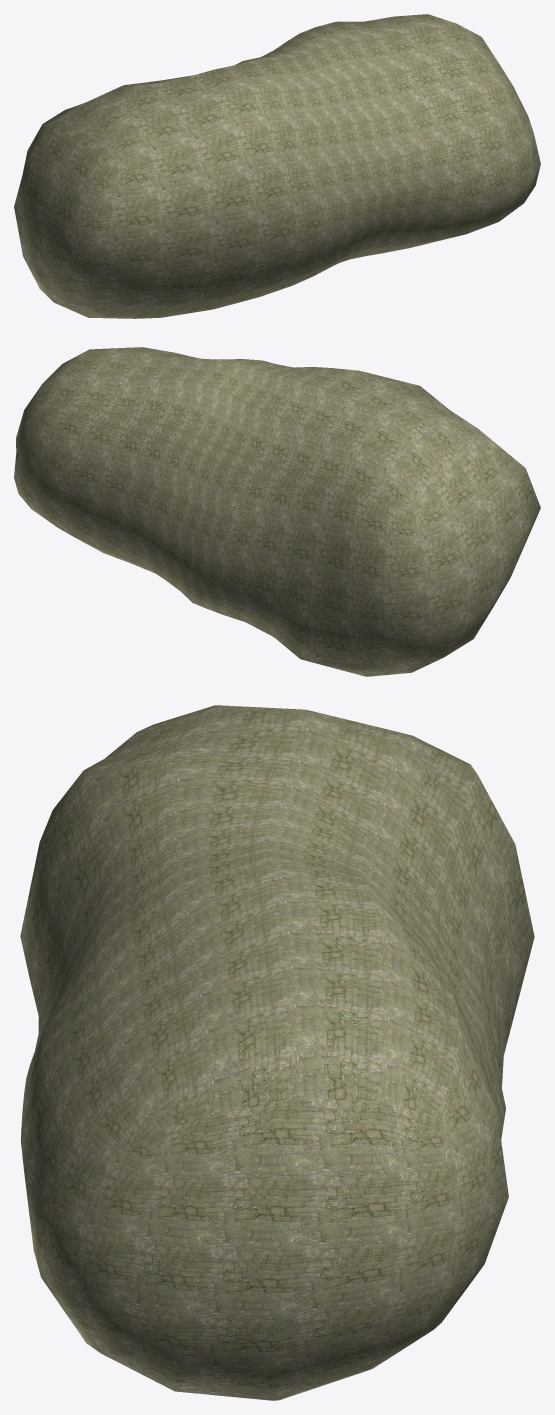
The model's file is SM_Chateaux_06_03.fbx.
3 views of the same model, one above another, from view 1: azimuth 30°, elevation 25°; view 2: azimuth 150°, elevation 25°; view 3: azimuth 270°, elevation 25° (orthographic). The views are drawn at different scales.
Parts seen in each view (by area): view 1: SM_Chateaux_06_03; view 2: SM_Chateaux_06_03; view 3: SM_Chateaux_06_03.
Boxes of the visible parts, bbox=[...] form: SM_Chateaux_06_03: bbox=[14, 14, 540, 318]; SM_Chateaux_06_03: bbox=[14, 347, 540, 676]; SM_Chateaux_06_03: bbox=[20, 705, 534, 1400].
Bounding box in the file's own units: 257 × 129 × 122.
